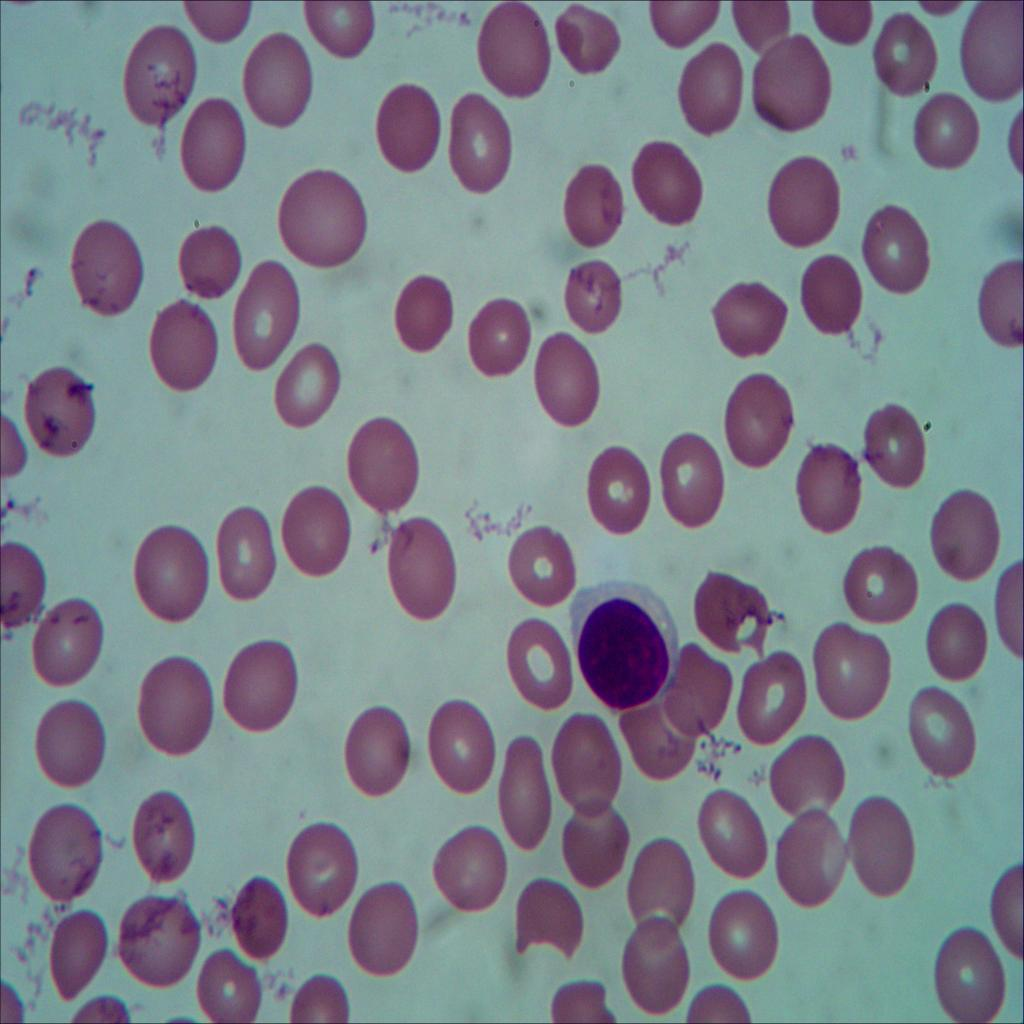Eritrosit: (490, 604, 584, 722), (140, 292, 233, 406), (470, 0, 560, 110), (686, 774, 775, 885), (492, 514, 586, 618), (377, 508, 462, 623), (224, 256, 300, 384), (276, 164, 367, 270), (125, 516, 211, 623), (752, 30, 837, 138), (134, 647, 214, 761), (923, 930, 1019, 1024), (441, 90, 516, 210), (528, 317, 606, 431), (842, 791, 920, 904), (732, 640, 810, 752), (233, 34, 315, 140), (784, 432, 866, 538), (906, 676, 985, 786), (546, 708, 625, 818), (504, 868, 590, 969), (340, 877, 422, 982), (66, 219, 151, 320), (341, 412, 424, 514), (434, 810, 511, 918), (634, 129, 706, 244), (370, 72, 442, 186), (812, 622, 888, 730), (218, 636, 300, 736), (840, 538, 922, 638), (766, 149, 852, 244), (423, 692, 498, 800), (862, 400, 937, 508), (926, 479, 1006, 580), (331, 704, 416, 799), (120, 22, 196, 128), (119, 889, 197, 991), (793, 235, 867, 341), (921, 593, 995, 699), (560, 156, 634, 260), (705, 888, 783, 985), (554, 0, 636, 92), (27, 801, 108, 894), (656, 430, 729, 533), (712, 281, 795, 371), (502, 731, 558, 864), (623, 922, 696, 1024), (907, 89, 987, 182), (26, 365, 98, 468), (31, 698, 109, 793), (206, 504, 280, 603), (283, 818, 354, 920), (178, 94, 246, 200), (466, 286, 536, 388), (386, 272, 465, 362), (779, 814, 850, 914), (622, 708, 710, 788), (722, 370, 788, 476), (866, 202, 934, 303), (662, 644, 736, 736), (279, 487, 352, 580), (697, 563, 768, 658), (30, 595, 102, 688), (222, 868, 290, 964), (564, 793, 632, 889), (769, 731, 844, 818), (616, 840, 690, 928), (864, 8, 938, 95), (957, 6, 1024, 100), (722, 0, 810, 70), (127, 786, 191, 882), (272, 349, 343, 431), (41, 909, 109, 994), (588, 444, 654, 531), (195, 948, 262, 1024), (558, 255, 634, 322), (0, 533, 48, 639), (303, 0, 378, 67), (682, 40, 737, 128), (180, 222, 241, 300), (279, 969, 354, 1024)
Limfosit: (566, 580, 688, 720)
